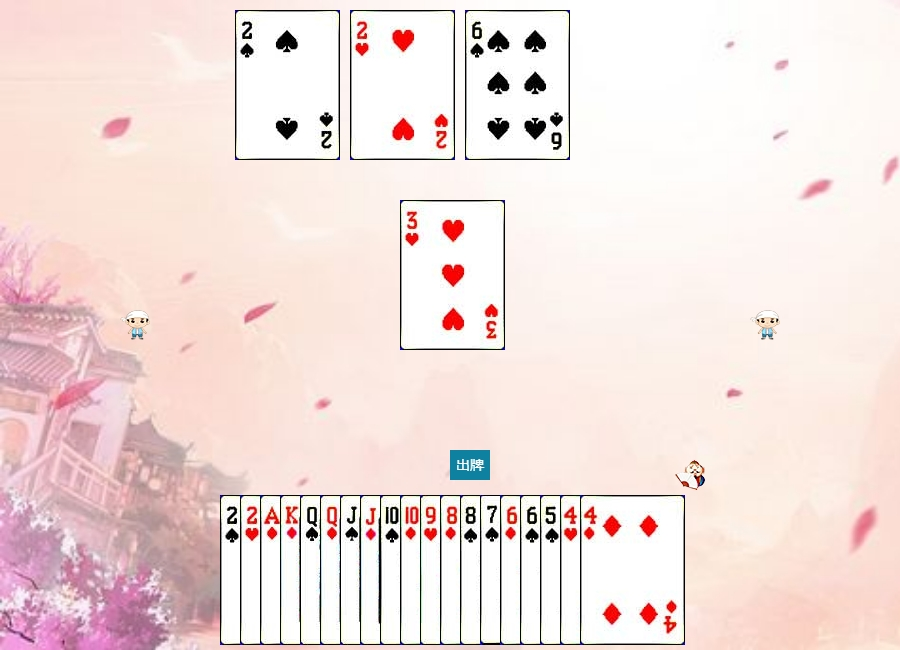10~1: (400, 495, 505, 645)
10~4: (380, 495, 485, 645)
11~1: (360, 495, 465, 645)
11~4: (340, 495, 445, 645)
12~1: (320, 495, 425, 645)
12~4: (300, 495, 405, 645)
13~1: (280, 495, 385, 645)
14~1: (260, 495, 365, 645)
15~3: (350, 10, 455, 160), (240, 495, 345, 645)
15~4: (235, 10, 340, 160), (220, 495, 325, 645)
3~3: (400, 200, 505, 350)
4~1: (580, 495, 685, 645)
4~3: (560, 495, 665, 645)
5~4: (540, 495, 645, 645)
6~1: (500, 495, 605, 645)
6~4: (465, 10, 570, 160), (520, 495, 625, 645)
7~4: (480, 495, 585, 645)
8~1: (440, 495, 545, 645)
8~4: (460, 495, 565, 645)
9~3: (420, 495, 525, 645)
